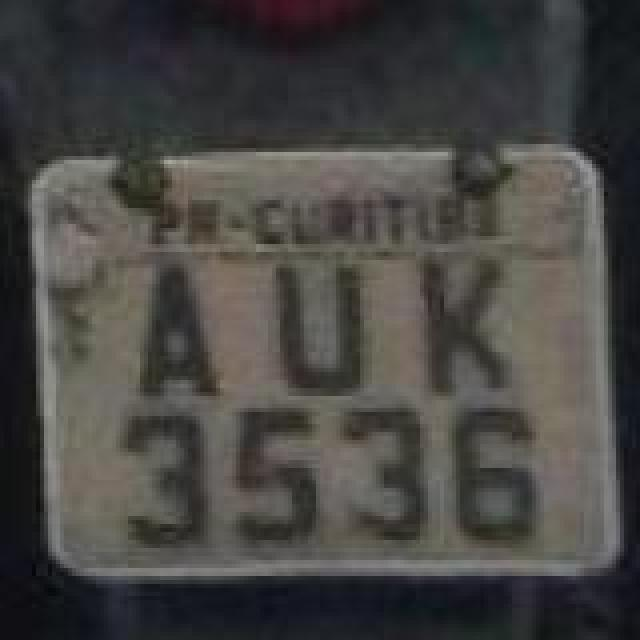3: (112, 408, 208, 552), (338, 406, 430, 546)
5: (230, 406, 322, 554)
6: (450, 404, 542, 548)
A: (130, 260, 222, 396)
K: (416, 250, 512, 398)
U: (268, 260, 372, 396)
